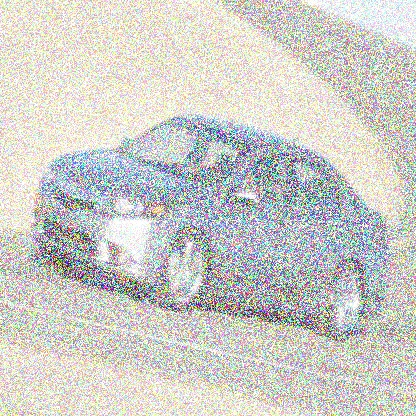Vehicle: (32, 114, 390, 342)
